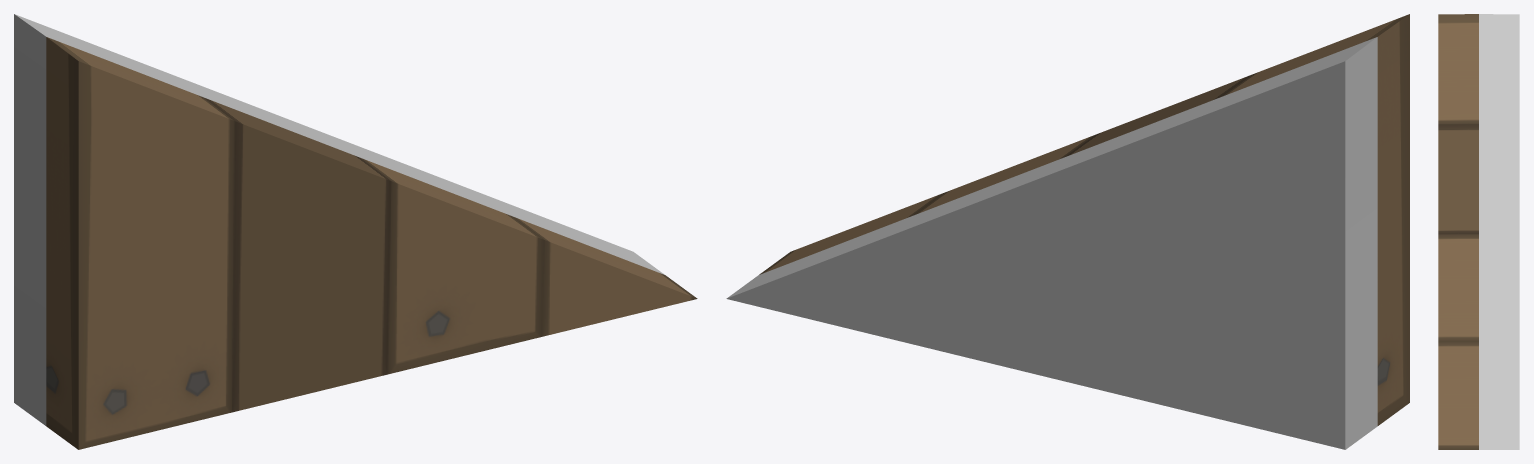
File: SM_Bld_Villa_Wall_Half_Angle_01.fbx
The picture shows the model from 3 angles, left to right: view 1: azimuth 30°, elevation 25°; view 2: azimuth 150°, elevation 25°; view 3: azimuth 270°, elevation 25°; orthographic projection. The views are drawn at different scales.
Parts seen in each view (by area): view 1: SM_Bld_Villa_Wall_Half_Angle_01; view 2: SM_Bld_Villa_Wall_Half_Angle_01; view 3: SM_Bld_Villa_Wall_Half_Angle_01.
Boxes of the visible parts, x1,y1,x2,y2 form: SM_Bld_Villa_Wall_Half_Angle_01: [14, 14, 697, 449]; SM_Bld_Villa_Wall_Half_Angle_01: [726, 14, 1409, 449]; SM_Bld_Villa_Wall_Half_Angle_01: [1438, 14, 1519, 449].
Size of the model in its own units: 125 by 75.14 by 22.5.
